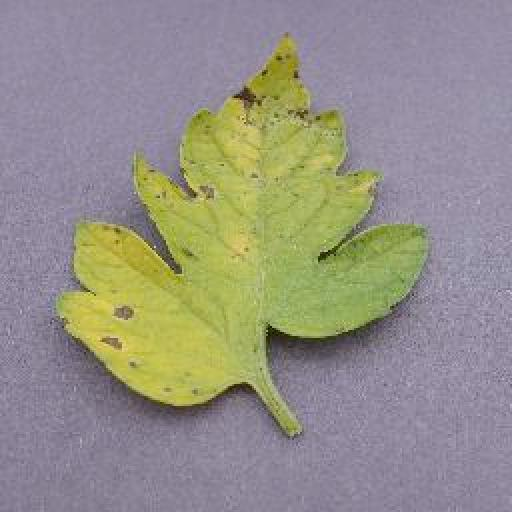disease_tomato: (55, 32, 435, 410)
